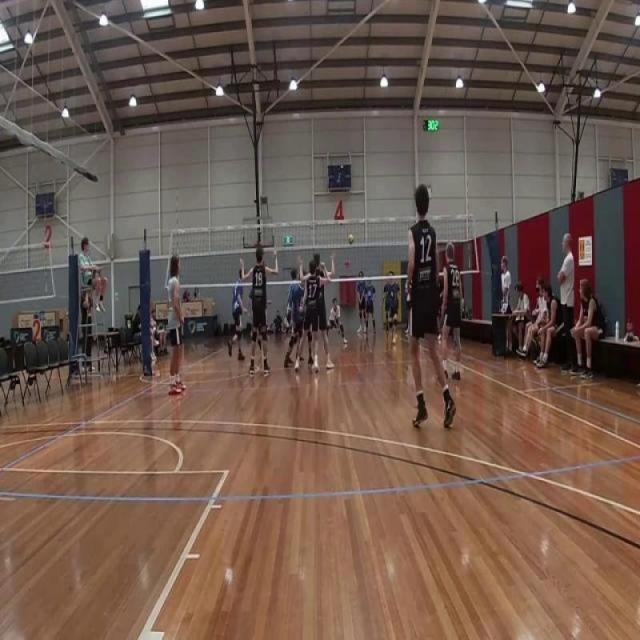volleyball: (348, 232, 354, 245)
